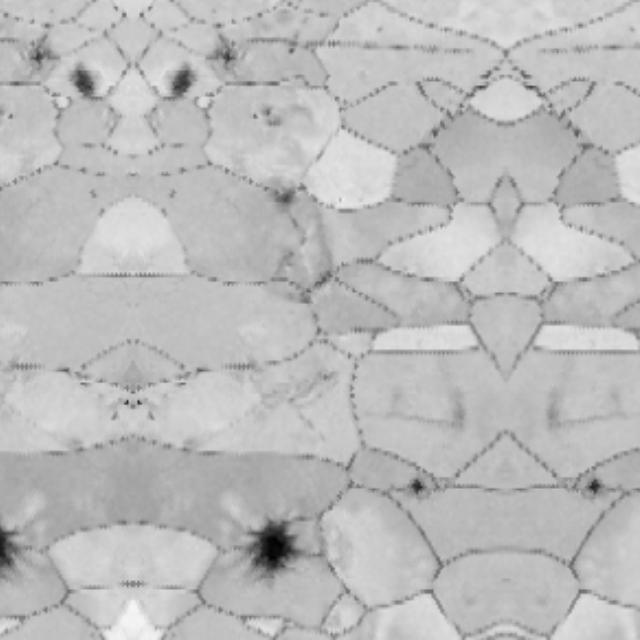good_void: (231, 504, 309, 577), (0, 504, 35, 574), (20, 28, 66, 77), (201, 28, 246, 77), (284, 275, 324, 313), (164, 59, 199, 102), (68, 59, 103, 102), (272, 176, 314, 207), (247, 99, 284, 134), (406, 468, 433, 504), (581, 468, 608, 504), (133, 390, 160, 425), (106, 390, 133, 425), (307, 365, 338, 393), (0, 99, 19, 133), (282, 40, 304, 62)
